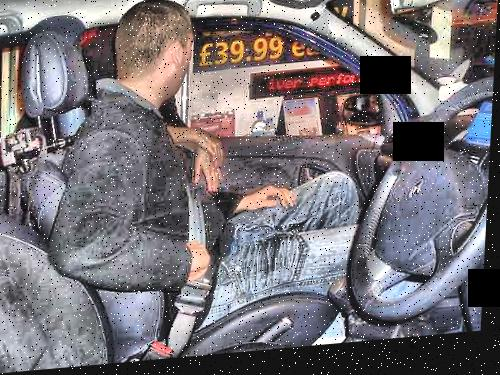seatbelt: (158, 107, 239, 346)
